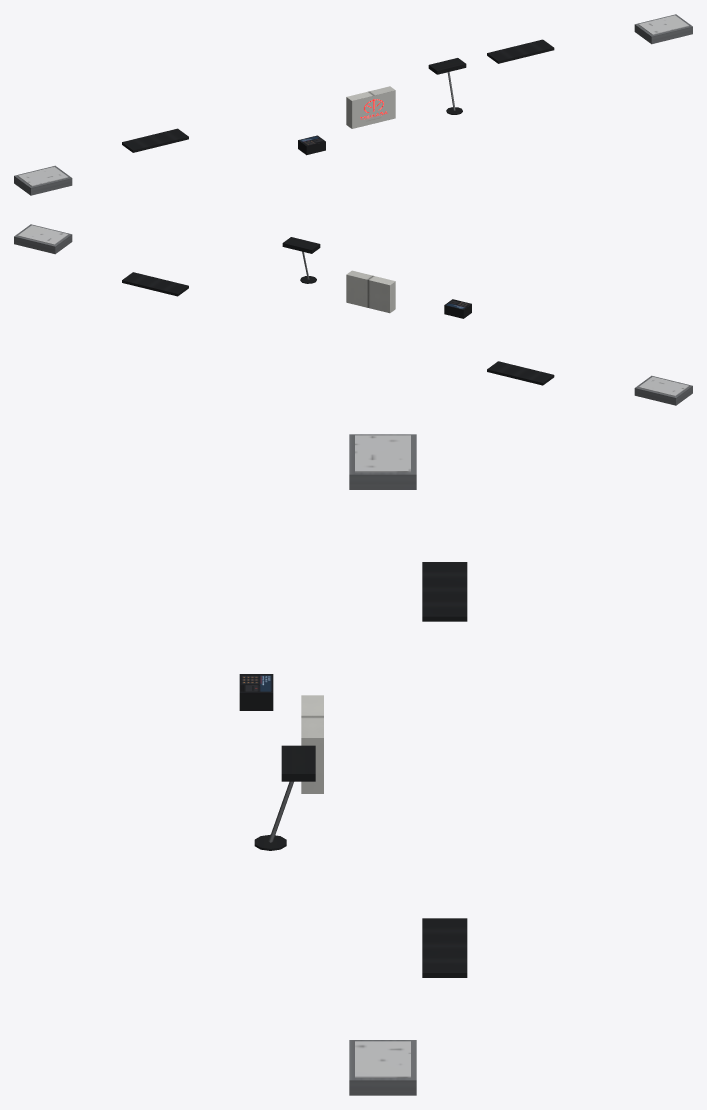
Rendered from SM_LFD_ReceptionDeskTop.fbx.
The picture shows the model from 3 angles, top to bottom: view 1: azimuth 30°, elevation 25°; view 2: azimuth 150°, elevation 25°; view 3: azimuth 270°, elevation 25°; orthographic projection. The views are drawn at different scales.
Visible parts, largest first — view 1: SM_LFD_ReceptionDeskTop; view 2: SM_LFD_ReceptionDeskTop; view 3: SM_LFD_ReceptionDeskTop.
Boxes of the visible parts, x1,y1,x2,y2 form: SM_LFD_ReceptionDeskTop: (14,14,692,195); SM_LFD_ReceptionDeskTop: (14,224,692,405); SM_LFD_ReceptionDeskTop: (239,434,467,1095).
Size of the model in its own units: 5.44 by 0.33 by 0.81.
